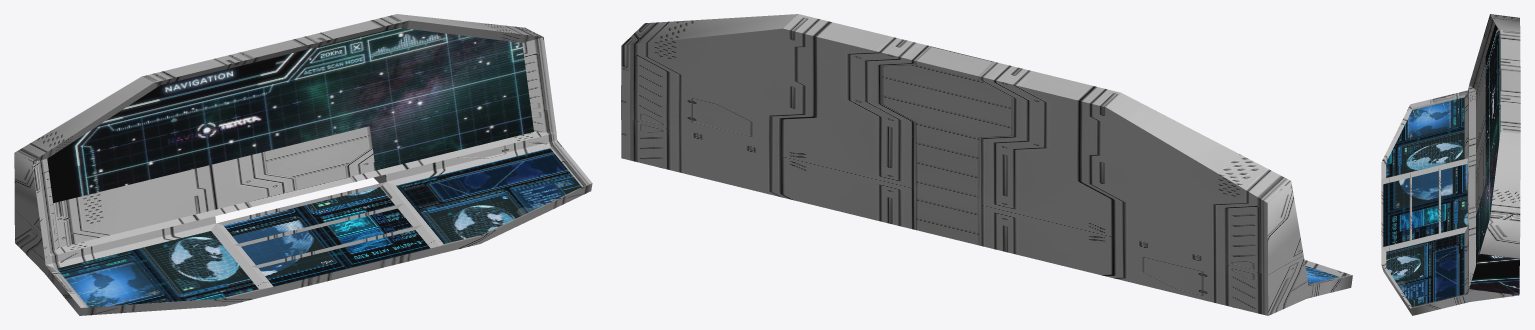
Rendered from wall_computer_-_small.glb.
3 renders of one model, left to right at view 1: azimuth 30°, elevation 25°; view 2: azimuth 150°, elevation 25°; view 3: azimuth 270°, elevation 25°, orthographic. The views are drawn at different scales.
Parts seen in each view (by area): view 1: MaterialFBXASC032FBXASC0352142150880, MaterialFBXASC032FBXASC0352142172430, MaterialFBXASC032FBXASC0352142171025; view 2: MaterialFBXASC032FBXASC0352142150880; view 3: MaterialFBXASC032FBXASC0352142150880, MaterialFBXASC032FBXASC0352142171025, MaterialFBXASC032FBXASC0352142172430.
Part boxes in pixels (bbox=[...]): MaterialFBXASC032FBXASC0352142150880: bbox=[14, 14, 592, 315]; MaterialFBXASC032FBXASC0352142172430: bbox=[47, 27, 533, 203]; MaterialFBXASC032FBXASC0352142171025: bbox=[57, 148, 581, 307]; MaterialFBXASC032FBXASC0352142150880: bbox=[621, 14, 1352, 315]; MaterialFBXASC032FBXASC0352142150880: bbox=[1381, 14, 1520, 315]; MaterialFBXASC032FBXASC0352142171025: bbox=[1383, 97, 1467, 306]; MaterialFBXASC032FBXASC0352142172430: bbox=[1469, 24, 1519, 295].
Size of the model in its own units: 20.95 by 6.68 by 6.03.
3 materials, 3 textured.
